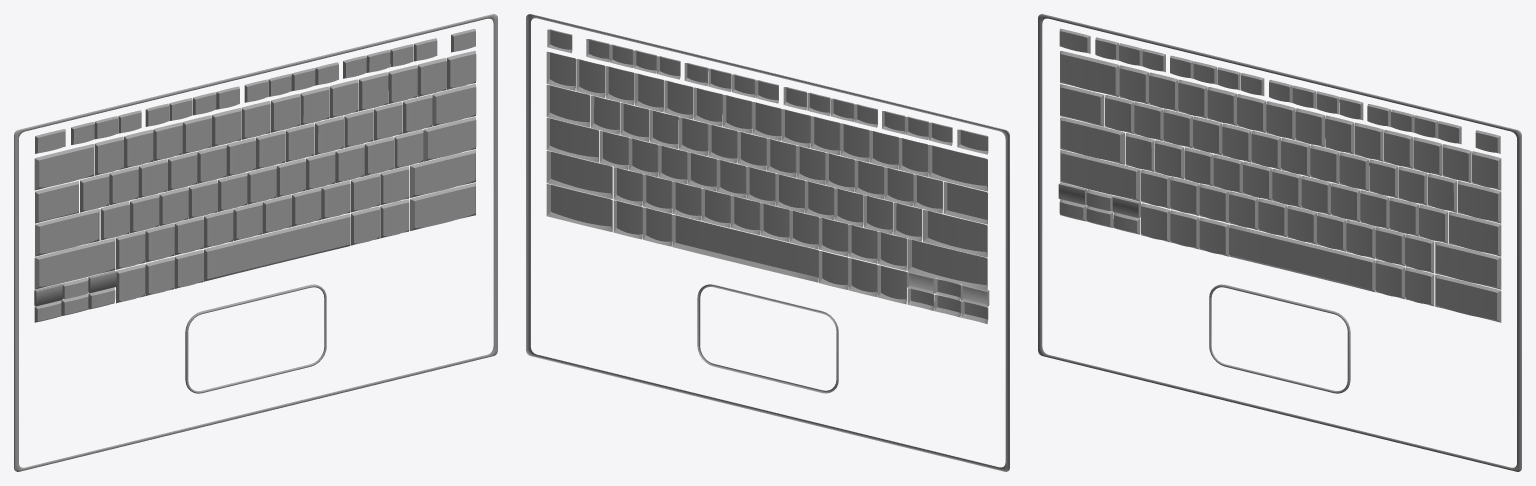
The model's file is MainMeshLaptop_17_1_GeomSubset_1.obj.
3 renders of one model, left to right at view 1: azimuth 30°, elevation 25°; view 2: azimuth 150°, elevation 25°; view 3: azimuth 330°, elevation 25°, orthographic.
Visible parts, largest first — view 1: MainMeshLaptop_17_1_GeomSubset_1; view 2: MainMeshLaptop_17_1_GeomSubset_1; view 3: MainMeshLaptop_17_1_GeomSubset_1.
Part boxes in pixels (box(x1,y1,x2,y2)): MainMeshLaptop_17_1_GeomSubset_1: box(14, 14, 497, 471); MainMeshLaptop_17_1_GeomSubset_1: box(526, 14, 1009, 471); MainMeshLaptop_17_1_GeomSubset_1: box(1038, 14, 1521, 471).
Bounding box in the file's own units: 0.4967 × 0.3354 × 0.0228.
